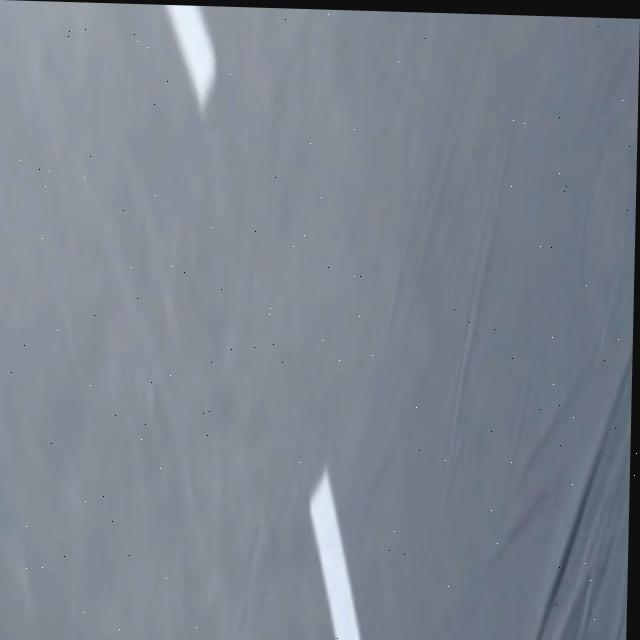center: (310, 467, 359, 640), (162, 5, 215, 112)
